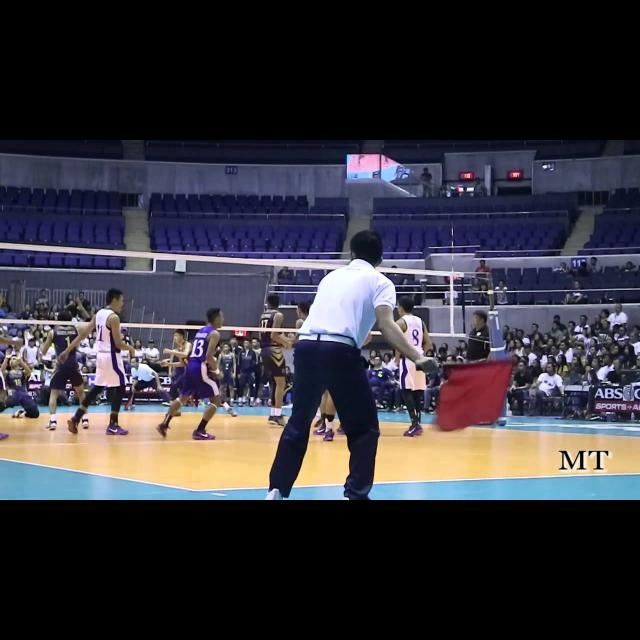head: (349, 229, 385, 269), (107, 289, 125, 313), (322, 290, 342, 310), (207, 307, 225, 329), (398, 297, 414, 317), (58, 310, 74, 328), (266, 292, 282, 310), (472, 311, 488, 327), (297, 300, 311, 318), (174, 328, 186, 344), (10, 356, 22, 368), (446, 356, 458, 368), (518, 360, 528, 372), (557, 354, 567, 366), (130, 357, 140, 368), (604, 355, 614, 365), (591, 358, 601, 368), (614, 358, 622, 369), (223, 343, 231, 353), (230, 335, 238, 345), (244, 339, 252, 349), (252, 338, 260, 348), (547, 362, 555, 372), (375, 356, 383, 366), (615, 303, 623, 313), (580, 315, 588, 325), (553, 321, 561, 331), (384, 353, 392, 362), (574, 281, 582, 289), (498, 280, 506, 288), (134, 340, 142, 348), (370, 350, 378, 358), (573, 356, 581, 364), (601, 310, 609, 318), (284, 366, 290, 376), (627, 262, 633, 270), (481, 283, 487, 291), (41, 290, 47, 298), (149, 340, 155, 348), (79, 292, 85, 300), (89, 338, 95, 346), (29, 339, 35, 347), (390, 349, 396, 357), (423, 168, 429, 174), (591, 258, 597, 264), (447, 285, 453, 291), (480, 260, 486, 266), (68, 294, 72, 300)
person: (58, 288, 136, 438), (155, 306, 225, 442), (316, 286, 374, 442), (37, 296, 91, 432), (159, 328, 239, 418), (390, 294, 436, 438), (287, 299, 329, 435), (258, 294, 294, 428), (465, 308, 493, 424), (126, 356, 178, 412), (0, 348, 40, 420), (421, 354, 459, 416), (529, 362, 567, 418), (367, 354, 398, 414), (503, 359, 532, 417), (237, 336, 260, 408), (216, 341, 238, 409), (224, 333, 244, 402), (246, 336, 264, 408), (584, 357, 606, 403), (602, 357, 626, 397), (608, 303, 630, 341), (559, 280, 587, 308), (280, 365, 296, 407), (492, 278, 510, 314), (24, 336, 42, 372), (380, 352, 398, 388), (366, 348, 382, 386), (586, 255, 604, 287), (443, 284, 459, 320), (468, 259, 492, 283), (145, 338, 163, 370), (476, 282, 492, 316), (131, 338, 147, 372), (384, 346, 398, 384), (419, 165, 433, 202), (84, 338, 100, 370), (602, 354, 618, 386), (570, 356, 586, 388), (36, 287, 52, 317), (574, 314, 590, 344), (548, 319, 564, 349), (555, 353, 569, 385), (622, 260, 638, 284), (77, 291, 91, 317), (598, 308, 610, 336), (64, 292, 76, 314)
